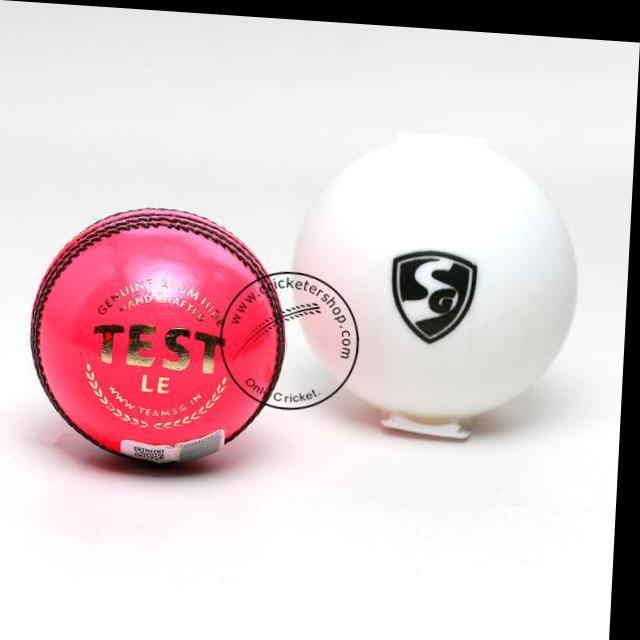cricket ball: (34, 205, 290, 451)
